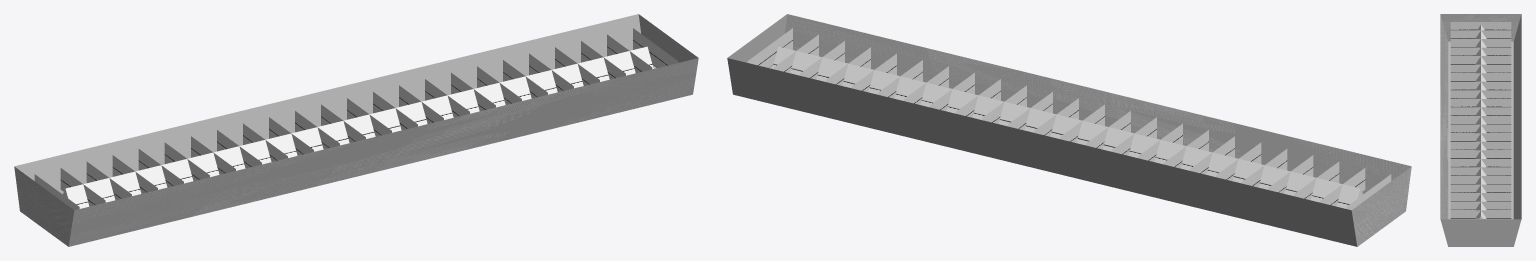
File: ceilinglamp.dae
3 renders of one model, left to right at view 1: azimuth 30°, elevation 25°; view 2: azimuth 150°, elevation 25°; view 3: azimuth 270°, elevation 25°, orthographic. The views are drawn at different scales.
Parts seen in each view (by area): view 1: SketchUp (×2), fin (×23), TL_Bulb; view 2: SketchUp (×2), fin (×23), TL_Bulb; view 3: fin (×24), SketchUp (×2), TL_Bulb.
Part boxes in pixels (x1,y1,x2,y2): SketchUp (×2): (14,14,698,246); fin (×23): (60,28,678,206); TL_Bulb: (63,46,653,208); SketchUp (×2): (727,14,1411,246); fin (×23): (747,28,1365,206); TL_Bulb: (772,46,1362,208); fin (×24): (1450,22,1511,219); SketchUp (×2): (1440,14,1521,246); TL_Bulb: (1475,25,1486,218).
Size of the model in its own units: 48 by 8 by 3.
